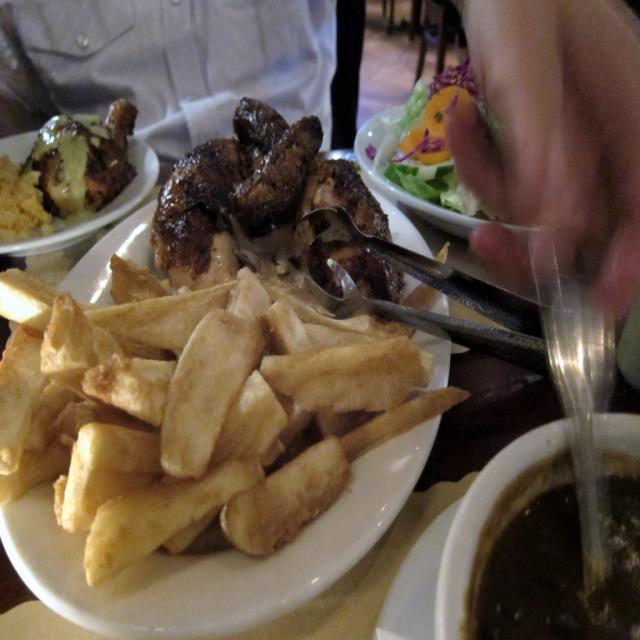Salad: (368, 57, 523, 221)
